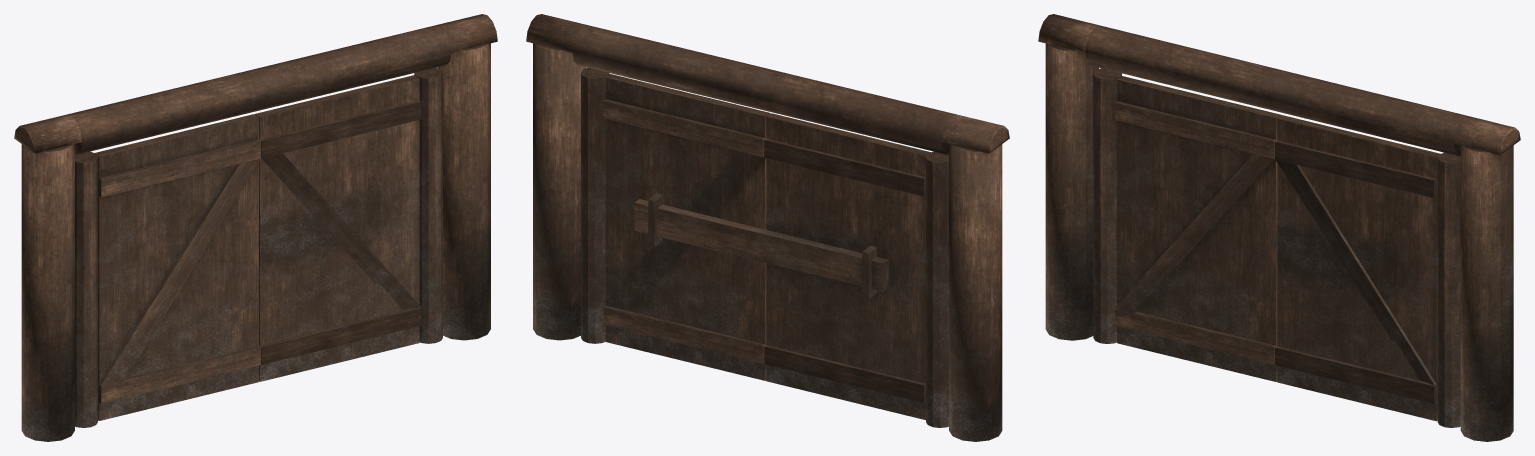
The model's file is Village gateTX.fbx.
The picture shows the model from 3 angles, left to right: view 1: azimuth 30°, elevation 25°; view 2: azimuth 150°, elevation 25°; view 3: azimuth 330°, elevation 25°; orthographic projection.
Visible parts, largest first — view 1: DoorVillage, DoorVillage2, GateDoor; view 2: GateDoor, DoorVillage2, DoorVillage, WoodDoorVillage; view 3: DoorVillage, DoorVillage2, GateDoor.
Part boxes in pixels (x1=…): DoorVillage: x1=75, y1=114, x2=260, y2=427; DoorVillage2: x1=255, y1=67, x2=442, y2=381; GateDoor: x1=14, y1=14, x2=497, y2=441; GateDoor: x1=526, y1=14, x2=1009, y2=441; DoorVillage2: x1=581, y1=67, x2=770, y2=380; DoorVillage: x1=764, y1=113, x2=948, y2=427; WoodDoorVillage: x1=634, y1=199, x2=888, y2=291; DoorVillage: x1=1093, y1=68, x2=1281, y2=381; DoorVillage2: x1=1275, y1=115, x2=1460, y2=427; GateDoor: x1=1038, y1=14, x2=1520, y2=441.
Bounding box in the file's own units: 4010 × 2559 × 400.
1 material, 1 textured.
